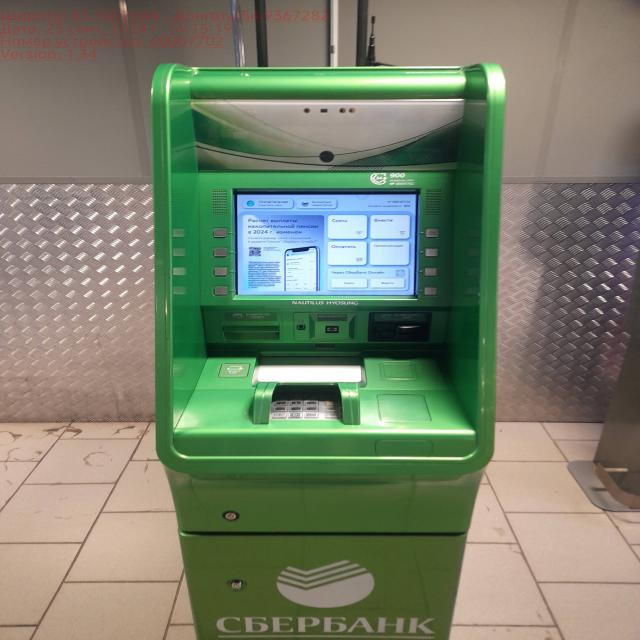bank: (143, 57, 501, 640)
